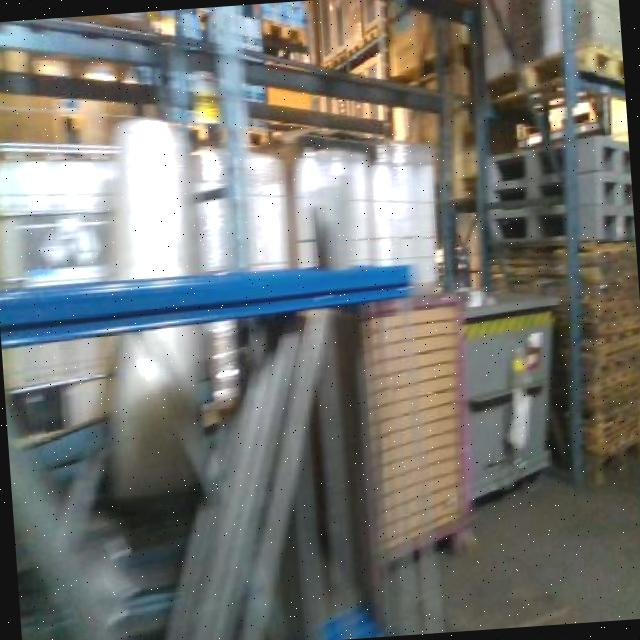pallet: (472, 35, 623, 106), (472, 129, 629, 190)
